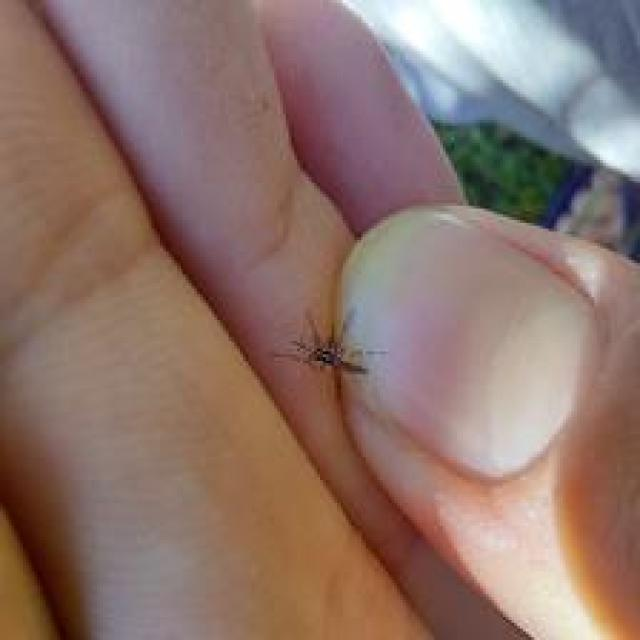Aedes albopictus: (272, 306, 388, 386)
